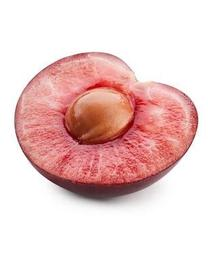cherry: (15, 51, 198, 200)
